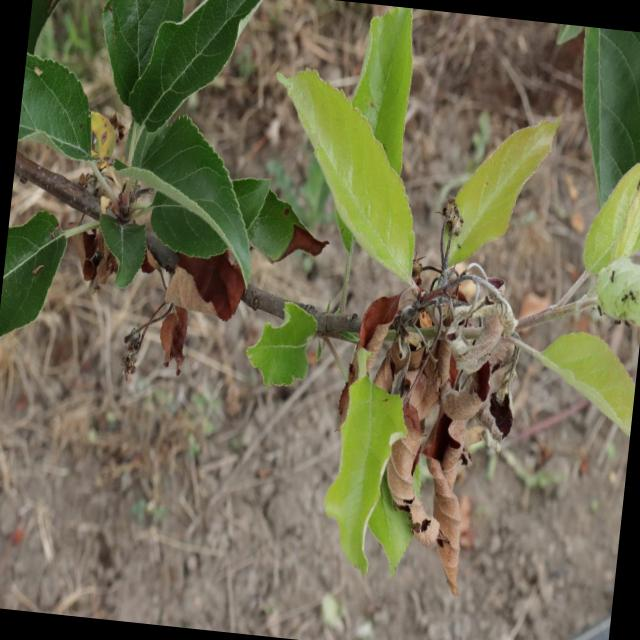-FireBlight-: (335, 268, 526, 589), (156, 241, 255, 377)
